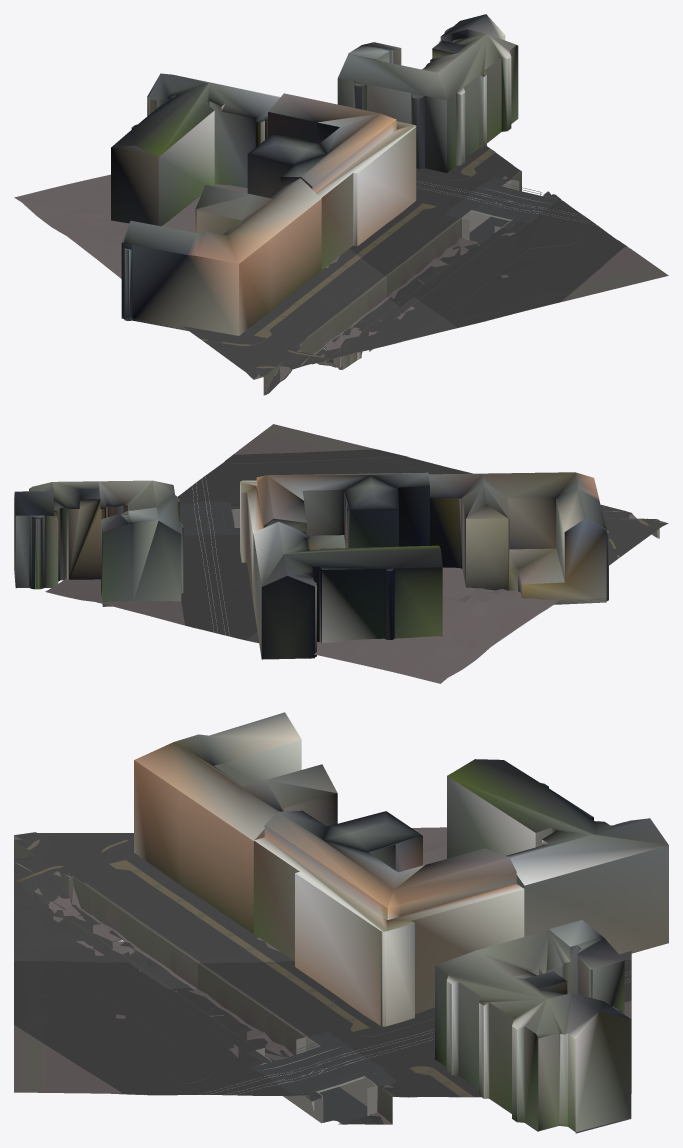
The picture shows the model from 3 angles, top to bottom: view 1: azimuth 30°, elevation 25°; view 2: azimuth 150°, elevation 25°; view 3: azimuth 270°, elevation 25°; orthographic projection. The views are drawn at different scales.
Parts seen in each view (by area): view 1: c_m11_m01, append:c_m11_m01; view 2: c_m11_m01, append:c_m11_m01; view 3: c_m11_m01, append:c_m11_m01, c_m11_m01_bridge_clipped_0.
Part boxes in pixels (x1,y1,x2,y2): c_m11_m01: (111,14,668,337); append:c_m11_m01: (14,174,457,395); c_m11_m01: (14,424,608,659); append:c_m11_m01: (246,504,668,683); c_m11_m01: (14,712,668,1133); append:c_m11_m01: (14,825,631,988); c_m11_m01_bridge_clipped_0: (245,1030,399,1124).
Bounding box in the file's own units: 155 × 33.47 × 136.
